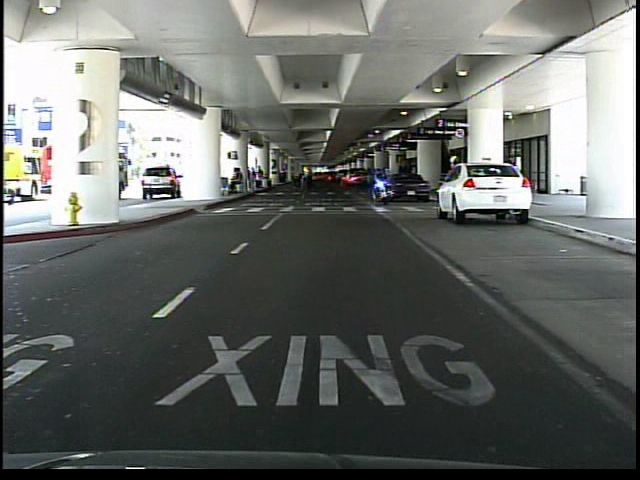person: (445, 151, 463, 217)
